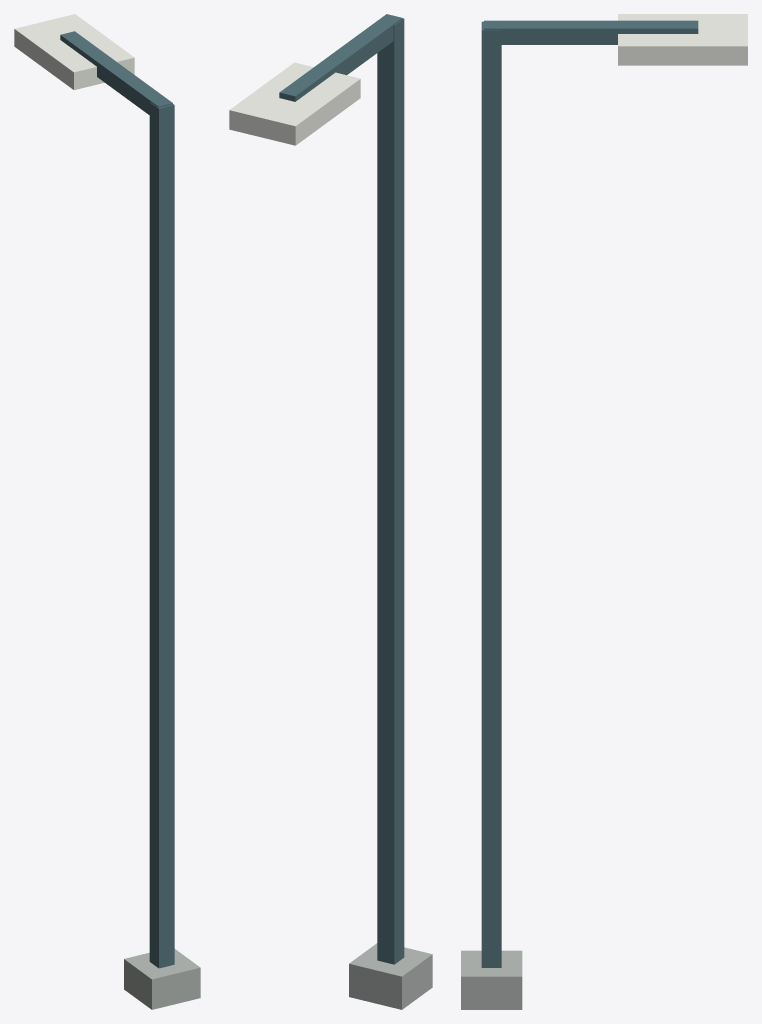
The model's file is TK_Lamp_7m.fbx.
3 renders of one model, left to right at view 1: azimuth 30°, elevation 25°; view 2: azimuth 150°, elevation 25°; view 3: azimuth 270°, elevation 25°, orthographic. The views are drawn at different scales.
Visible parts, largest first — view 1: Mast, LightHousing, Foot, Arm; view 2: Mast, LightHousing, Foot, Arm; view 3: Mast, LightHousing, Arm, Foot.
Boxes of the visible parts, x1,y1,x2,y2 form: Mast: (149, 102, 174, 968); LightHousing: (14, 14, 134, 89); Foot: (124, 949, 200, 1009); Arm: (60, 31, 172, 114); Mast: (377, 18, 404, 964); LightHousing: (229, 62, 360, 145); Foot: (349, 943, 432, 1009); Arm: (279, 14, 402, 101); Mast: (481, 21, 501, 967); LightHousing: (618, 14, 747, 65); Arm: (484, 20, 698, 44); Foot: (461, 950, 522, 1009).
Bounding box in the file's own units: 0.5 × 7.01 × 1.88.
